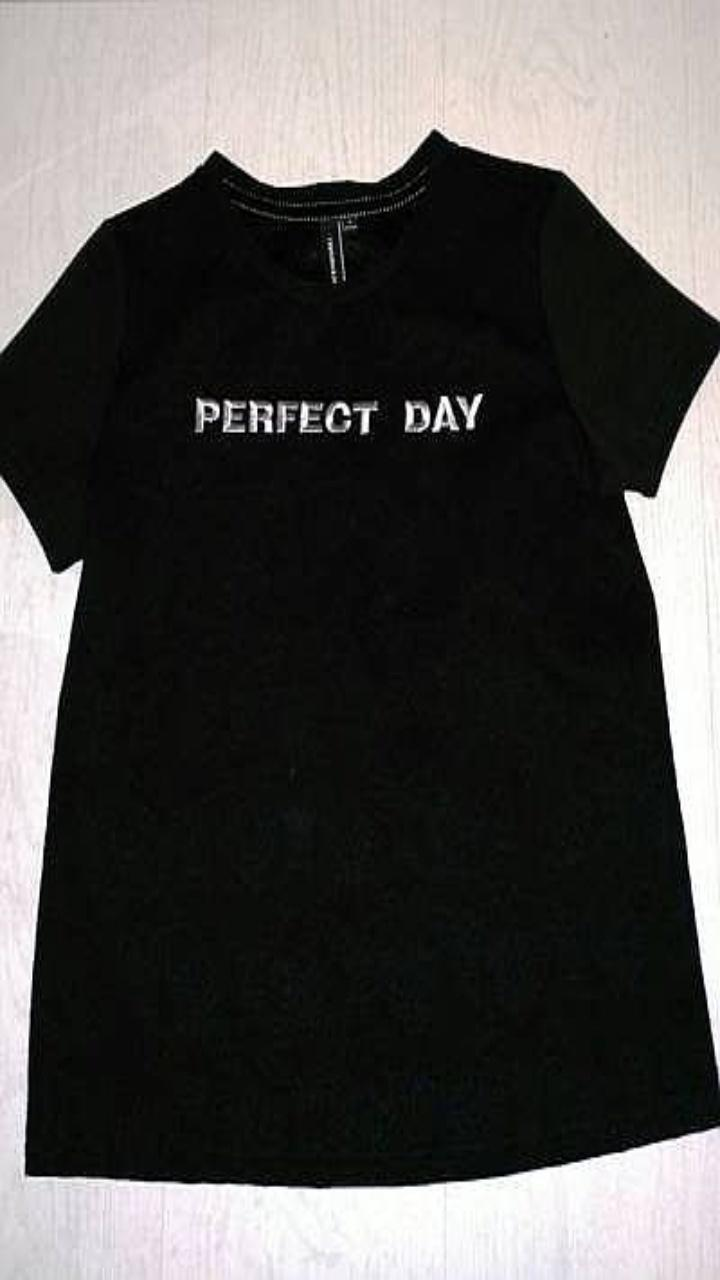T-Shirt: (0, 129, 719, 1185)
